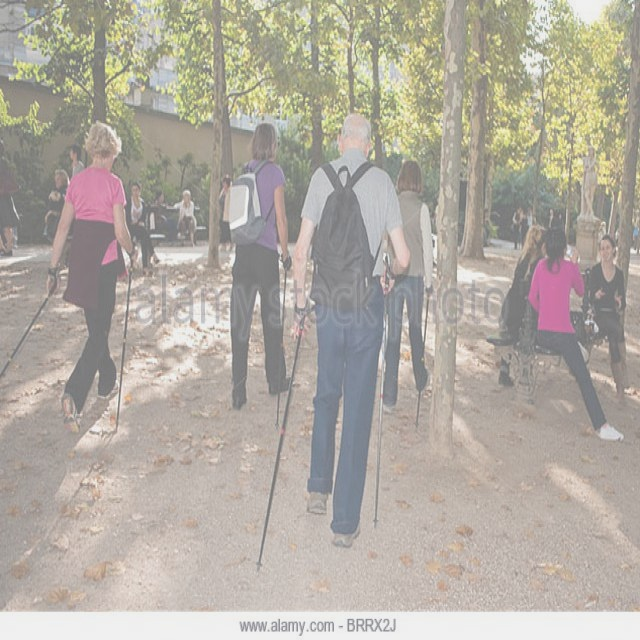pessoa: (287, 104, 413, 554), (43, 119, 142, 438), (526, 224, 629, 446), (226, 113, 297, 411), (381, 158, 435, 413), (588, 233, 630, 407), (497, 224, 547, 334), (123, 181, 161, 275), (40, 167, 71, 246), (0, 137, 19, 257), (153, 190, 179, 244), (217, 172, 233, 253), (177, 188, 198, 248), (427, 196, 442, 273), (222, 176, 236, 253), (67, 141, 85, 178), (509, 203, 522, 250), (0, 218, 11, 252), (518, 212, 528, 249), (597, 213, 608, 243), (631, 222, 639, 256), (525, 205, 535, 229), (546, 207, 556, 230), (614, 220, 621, 250), (556, 210, 564, 236), (519, 206, 525, 235)
